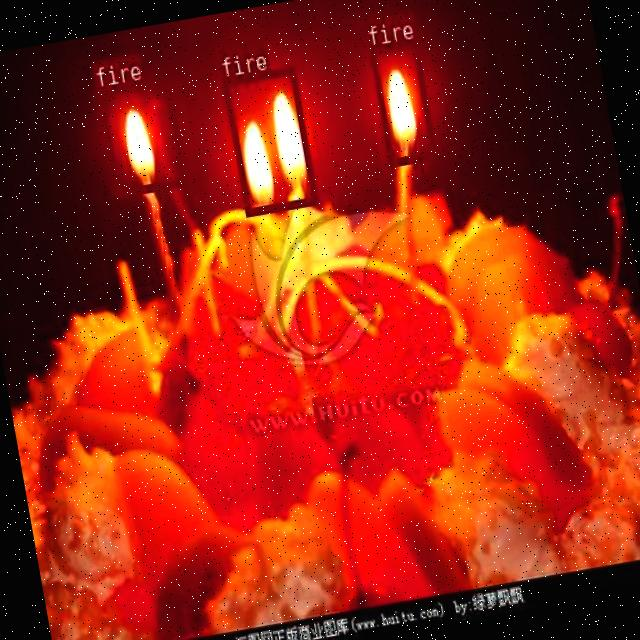fire: (220, 65, 317, 215), (95, 75, 186, 196), (368, 38, 436, 166)
